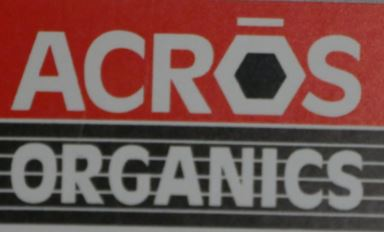AcrosOrganics: (9, 16, 367, 212)
